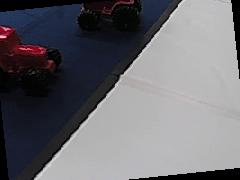Tracktor: (1, 24, 62, 87), (73, 0, 142, 31)
